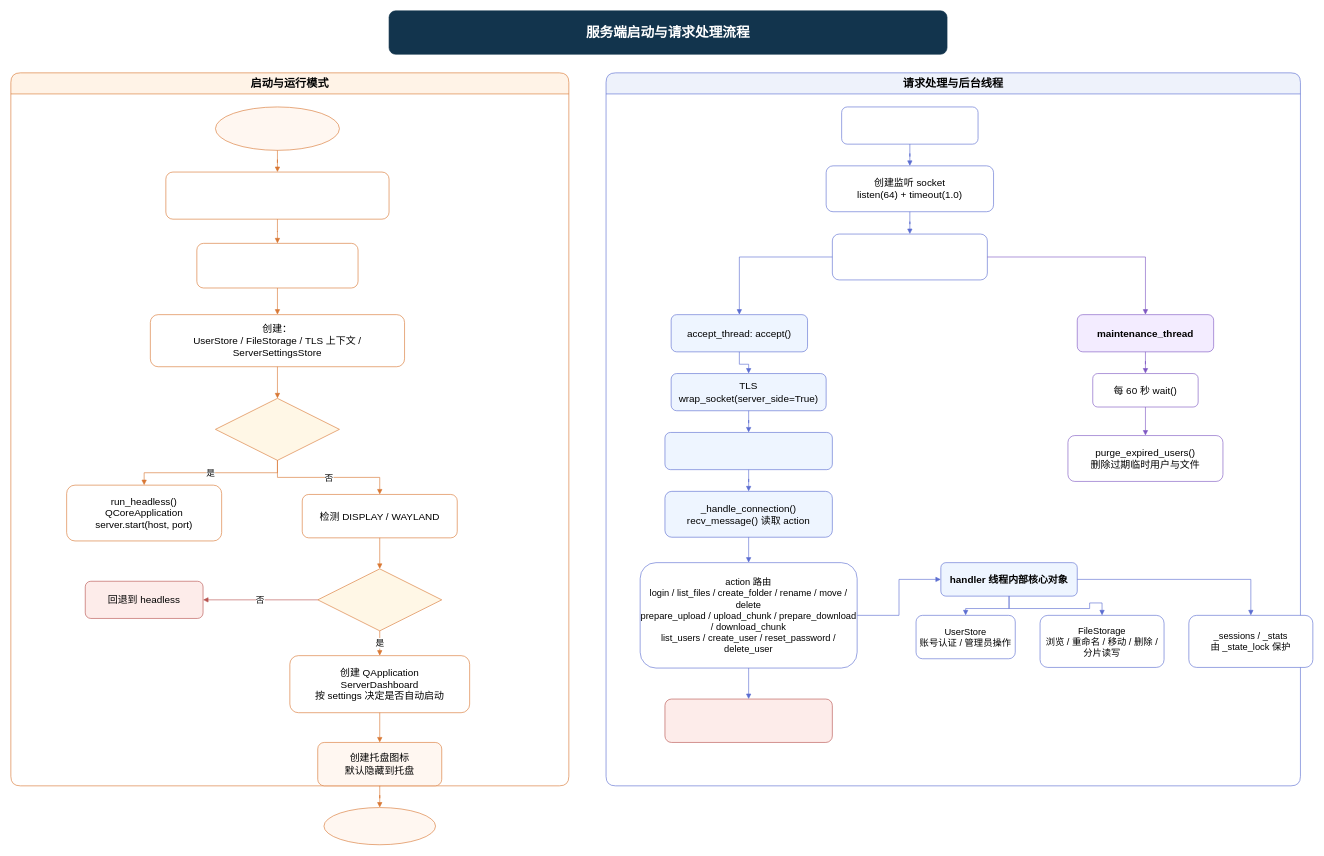
Image size: 1324x856. Some labels were removed from this diagram. Here are the shapes that lost their labels. From the top down, the centre of each, then its label:
point 277,128: 启动 Server/server_main.py
point 909,125: server.start(host, port)
point 277,195: 解析参数 --headless / --host / --port / --data-dir
point 277,265: resolve_data_dir() build_server()
point 909,256: 启动 accept_thread 启动 maintenance_thread
point 277,429: headless ?
point 748,451: 每个连接创建独立 handler 线程
point 379,599: GUI 可用？
point 748,720: 错误统一返回 send_message(status=error) + 记日志
point 379,826: 进入 Qt 事件循环
